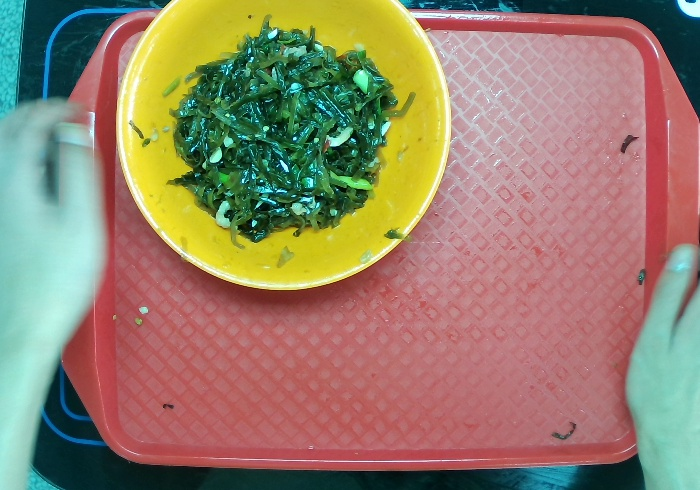YKMZ-Ju_Se_Tang_Wan: (112, 1, 454, 295)
